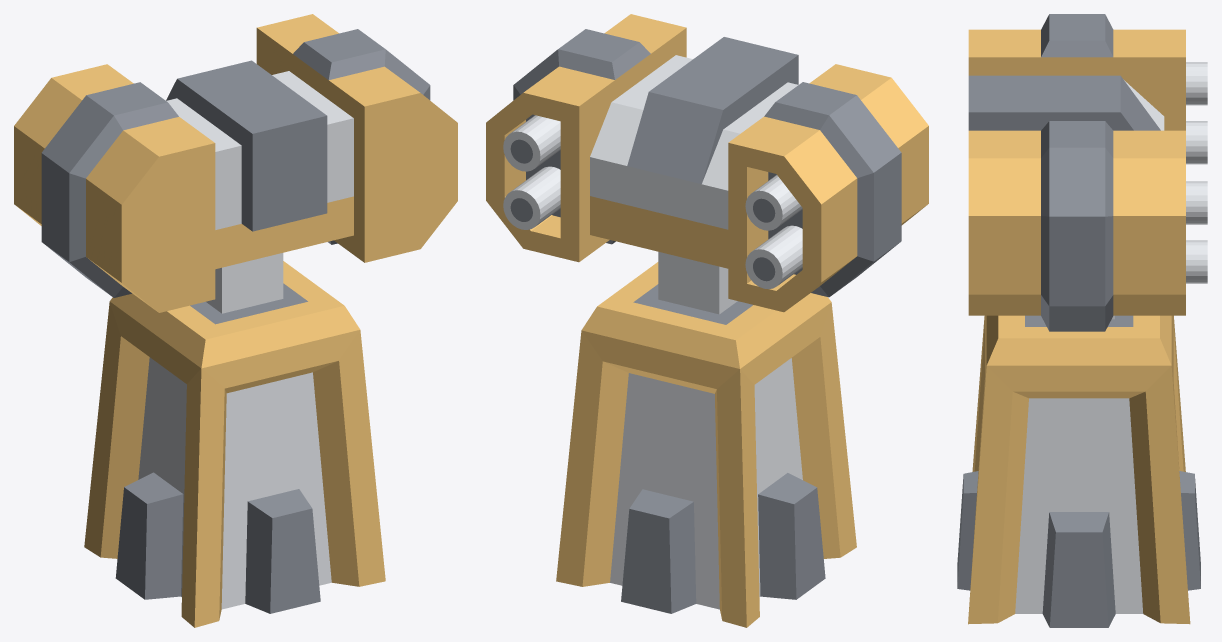
The model's file is turret_3.fbx.
3 views of the same model, side by side, from view 1: azimuth 30°, elevation 25°; view 2: azimuth 150°, elevation 25°; view 3: azimuth 270°, elevation 25° (orthographic).
Parts seen in each view (by area): view 1: turret_G3_head, turret_G3_base; view 2: turret_G3_head, turret_G3_base; view 3: turret_G3_head, turret_G3_base.
Part boxes in pixels (x1=…): turret_G3_head: x1=14, y1=14, x2=457, y2=312; turret_G3_base: x1=84, y1=253, x2=385, y2=627; turret_G3_head: x1=486, y1=14, x2=928, y2=312; turret_G3_base: x1=556, y1=251, x2=856, y2=627; turret_G3_head: x1=968, y1=14, x2=1207, y2=331; turret_G3_base: x1=957, y1=315, x2=1200, y2=627.
Size of the model in its own units: 1.18 by 1.54 by 0.7003.
